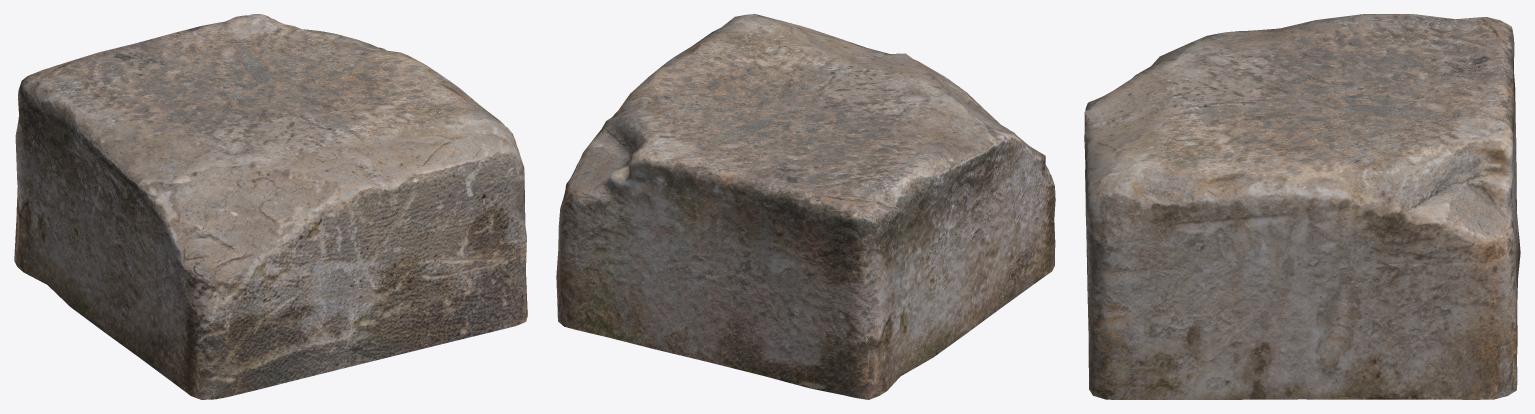
Rendered from mdl_granite_block.glb.
The picture shows the model from 3 angles, left to right: view 1: azimuth 30°, elevation 25°; view 2: azimuth 150°, elevation 25°; view 3: azimuth 270°, elevation 25°; orthographic projection. The views are drawn at different scales.
Parts seen in each view (by area): view 1: Granite Block; view 2: Granite Block; view 3: Granite Block.
Boxes of the visible parts, box(x1,y1,x2,y2) form: Granite Block: box(14, 14, 527, 399); Granite Block: box(556, 14, 1055, 399); Granite Block: box(1084, 14, 1520, 399).
Size of the model in its own units: 0.6471 by 0.3573 by 0.6586.
Materials: 1 (1 with a texture image).
